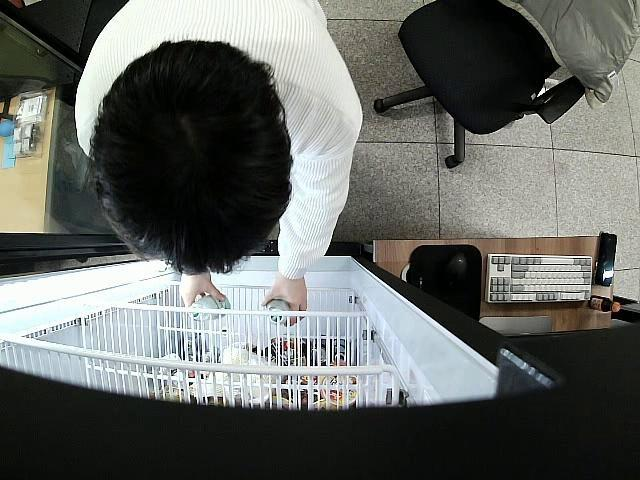18_trevi: (187, 295, 232, 324), (263, 296, 292, 328)
